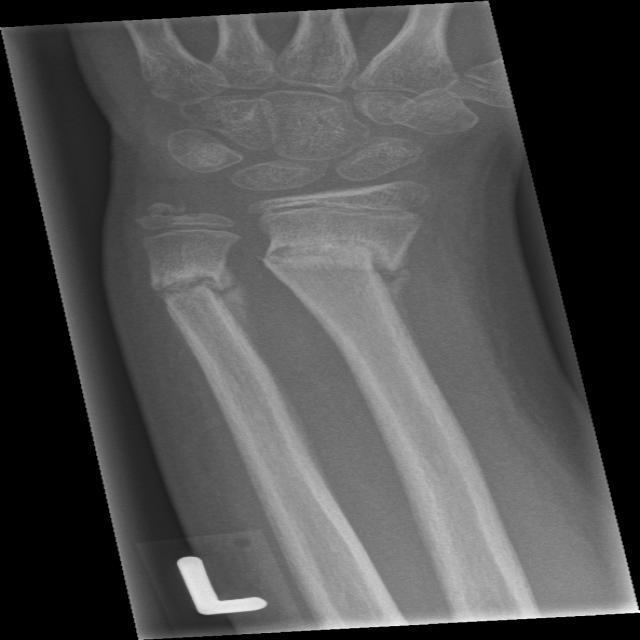radius fracture: (250, 220, 464, 367)
ulna fracture: (129, 244, 261, 370)
